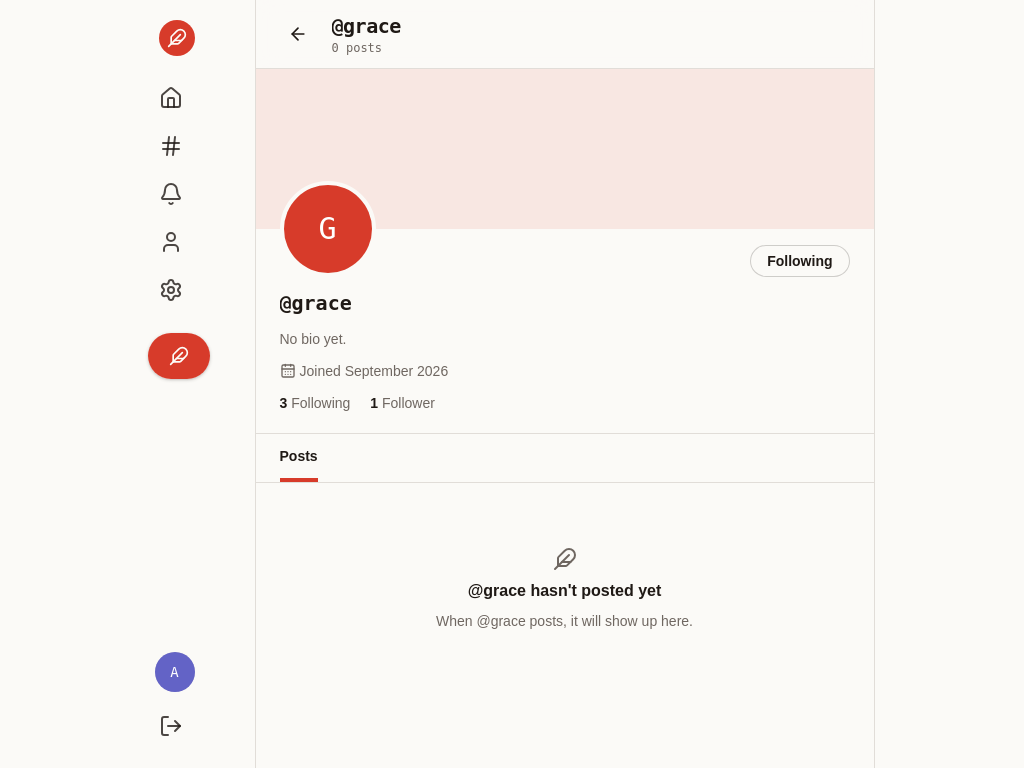
it: Profile › follows › unfollows in one click from "Following"
Click the button with aria-label "Unfollow @grace" at (800, 261), box top-left (750, 245), bottom-right (850, 277)
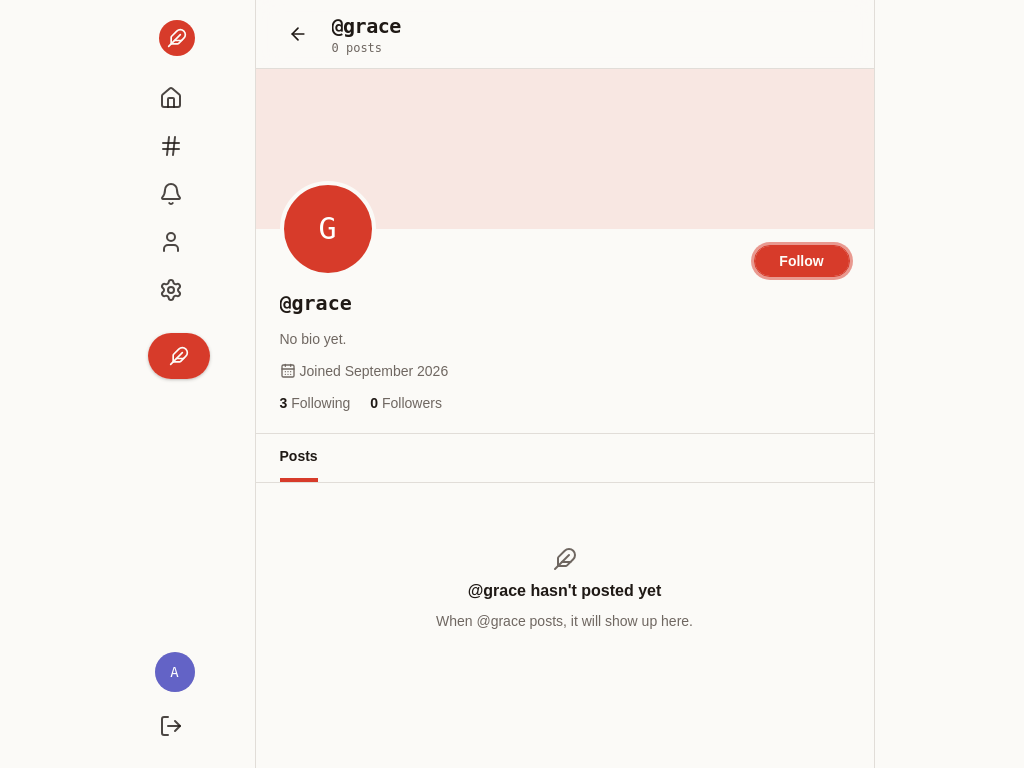
expect the button "0 Followers" is shown: met, box top-left (370, 393), bottom-right (442, 413)
